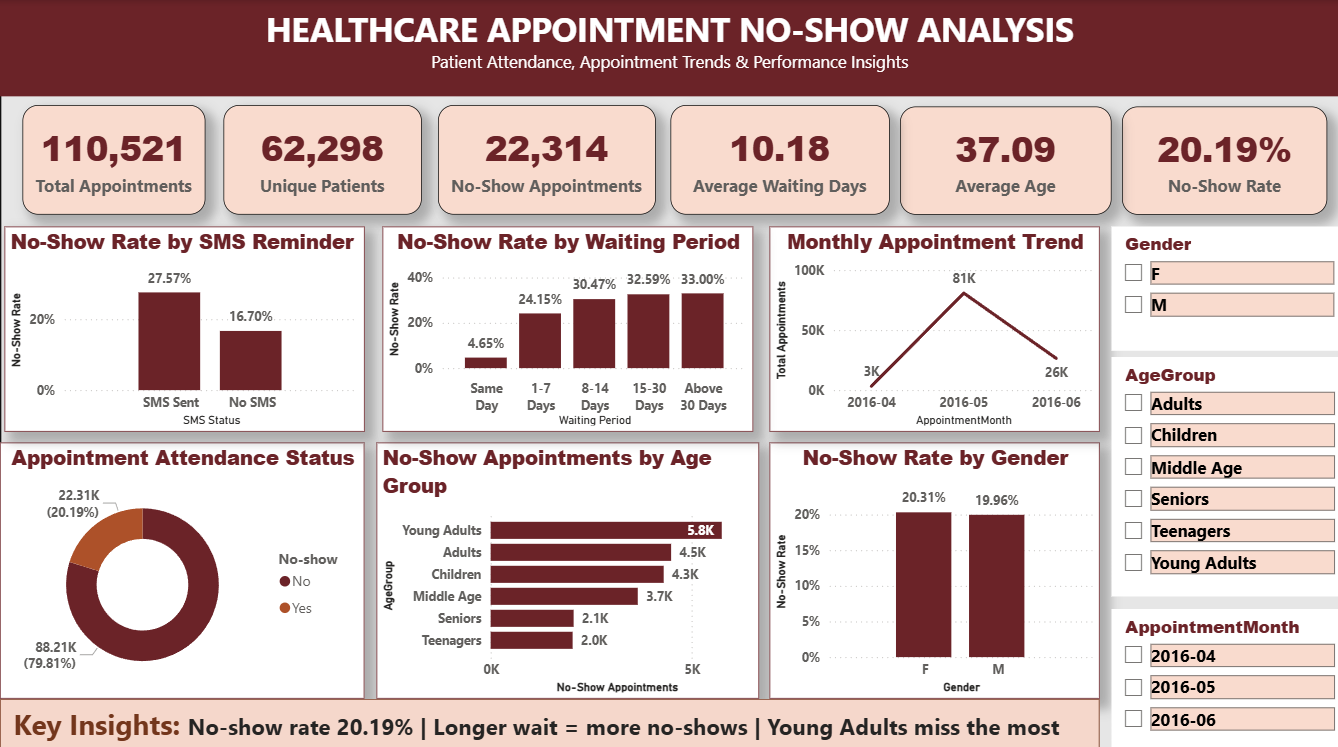

What the dashboard file says about the page in this screenshot:
{"tool":"powerbi","page":{"name":"Page 1","canvas":[1280,720],"ordinal":0},"visuals":[{"type":"card","fields":{"Values":["healthcare_appointment_db appointments.Total Appointments"]},"box":[21.5,100.3,174.8,104.6],"z":0},{"type":"card","fields":{"Values":["healthcare_appointment_db appointments.Unique Patients"]},"box":[213.4,100.3,189.1,104.6],"z":1000},{"type":"card","fields":{"Values":["healthcare_appointment_db appointments.No-Show Appointments"]},"box":[418.3,100.3,207.7,104.6],"z":2000},{"type":"card","fields":{"Values":["healthcare_appointment_db appointments.No-Show Rate"]},"box":[1071.4,101.7,196.2,103.1],"z":3000},{"type":"card","fields":{"Values":["healthcare_appointment_db appointments.Average Age"]},"box":[859.4,101.7,202,103.1],"z":4000},{"type":"card","fields":{"Values":["healthcare_appointment_db appointments.Average Waiting Days"]},"box":[640.3,100.3,209.1,104.6],"z":5000},{"type":"textbox","box":[0,0,1279.1,91.7],"z":6000},{"type":"donutChart","title":"Appointment Attendance Status","fields":{"Category":["healthcare_appointment_db appointments.No-show"],"Y":["CountNonNull(healthcare_appointment_db appointments.AppointmentID)"]},"box":[0,422.6,348.1,244.9],"z":7000},{"type":"clusteredBarChart","title":"No-Show Appointments by Age Group","fields":{"Category":["healthcare_appointment_db appointments.AgeGroup"],"Y":["healthcare_appointment_db appointments.No-Show Appointments"]},"box":[359.5,422.6,365.3,244.9],"z":8000},{"type":"clusteredColumnChart","title":"No-Show Rate by Gender","fields":{"Category":["healthcare_appointment_db appointments.Gender"],"Y":["healthcare_appointment_db appointments.No-Show Rate"]},"box":[734.8,422.6,315.1,244.9],"z":9000},{"type":"lineChart","title":"Monthly Appointment Trend","fields":{"Category":["healthcare_appointment_db appointments.AppointmentMonth"],"Y":["healthcare_appointment_db appointments.Total Appointments"]},"box":[734.8,216.3,315.1,196.2],"z":10000},{"type":"clusteredColumnChart","title":"No-Show Rate by SMS Reminder","fields":{"Y":["healthcare_appointment_db appointments.No-Show Rate"],"Category":["healthcare_appointment_db appointments.SMS Status"]},"box":[4.3,216.3,343.8,196.2],"z":11000},{"type":"clusteredColumnChart","fields":{"Category":["healthcare_appointment_db appointments.Waiting Period"],"Y":["healthcare_appointment_db appointments.No-Show Rate"]},"box":[366.7,216.3,353.8,196.2],"z":12000},{"type":"slicer","fields":{"Values":["healthcare_appointment_db appointments.Gender"]},"box":[1061.4,216.3,217.7,118.9],"z":13000},{"type":"slicer","fields":{"Values":["healthcare_appointment_db appointments.AgeGroup"]},"box":[1061.5,340.7,218,228.6],"z":14000},{"type":"slicer","fields":{"Values":["healthcare_appointment_db appointments.AppointmentMonth"]},"box":[1061.5,581.5,218,137.8],"z":15000},{"type":"textbox","box":[0,667.5,1049.9,51.6],"z":16000}]}

Visuals, with their boxes in screenshot pixels (x1, y1, x2, y2), scaled from the page's 1280x720 canvas onto the 1338x747 screenshot:
card - healthcare_appointment_db appointments.Total Appointments: Rect(22, 104, 205, 213)
card - healthcare_appointment_db appointments.Unique Patients: Rect(223, 104, 421, 213)
card - healthcare_appointment_db appointments.No-Show Appointments: Rect(437, 104, 654, 213)
card - healthcare_appointment_db appointments.No-Show Rate: Rect(1120, 106, 1325, 212)
card - healthcare_appointment_db appointments.Average Age: Rect(898, 106, 1109, 212)
card - healthcare_appointment_db appointments.Average Waiting Days: Rect(669, 104, 888, 213)
textbox: Rect(0, 0, 1337, 95)
"Appointment Attendance Status" donutChart: Rect(0, 438, 364, 693)
"No-Show Appointments by Age Group" clusteredBarChart: Rect(376, 438, 758, 693)
"No-Show Rate by Gender" clusteredColumnChart: Rect(768, 438, 1097, 693)
"Monthly Appointment Trend" lineChart: Rect(768, 224, 1097, 428)
"No-Show Rate by SMS Reminder" clusteredColumnChart: Rect(4, 224, 364, 428)
clusteredColumnChart - healthcare_appointment_db appointments.Waiting Period x healthcare_appointment_db appointments.No-Show Rate: Rect(383, 224, 753, 428)
slicer - healthcare_appointment_db appointments.Gender: Rect(1109, 224, 1337, 348)
slicer - healthcare_appointment_db appointments.AgeGroup: Rect(1110, 353, 1337, 591)
slicer - healthcare_appointment_db appointments.AppointmentMonth: Rect(1110, 603, 1337, 746)
textbox: Rect(0, 693, 1097, 746)
